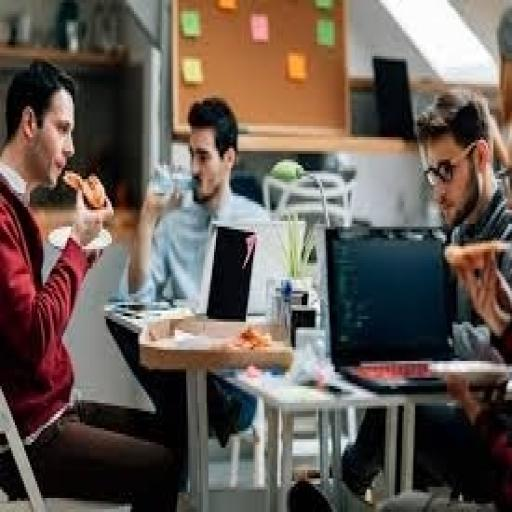eating: (0, 56, 182, 509)
